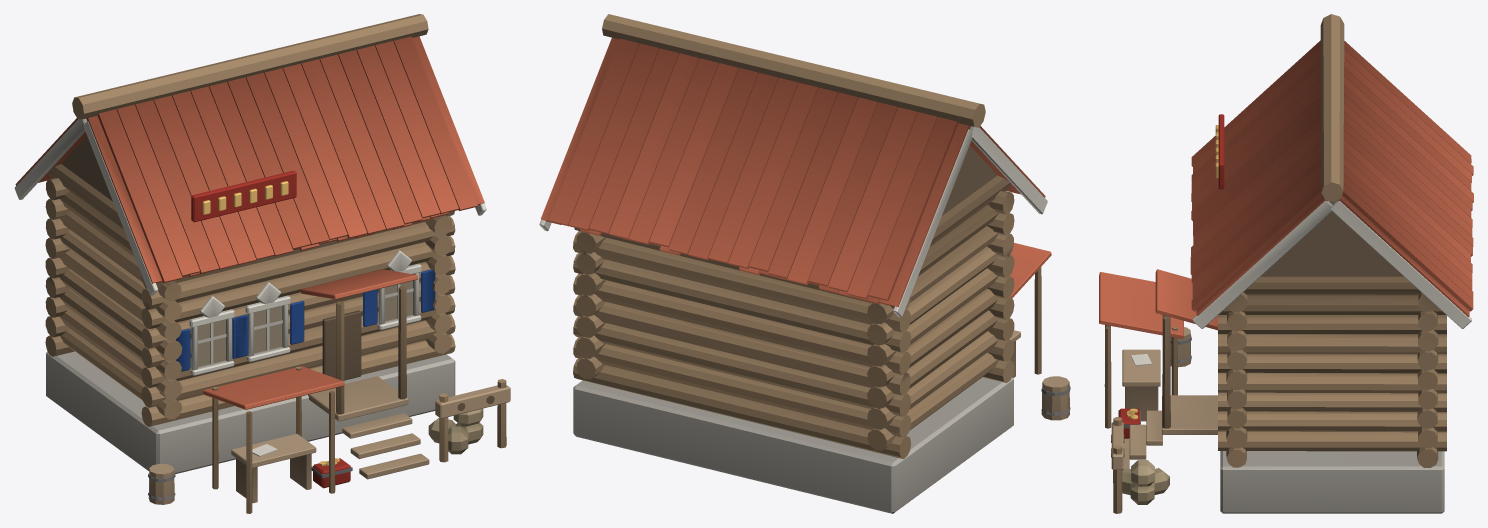
Rendered from bld_prikaz.glb.
3 views of the same model, side by side, from view 1: azimuth 30°, elevation 25°; view 2: azimuth 150°, elevation 25°; view 3: azimuth 270°, elevation 25° (orthographic). The views are drawn at different scales.
Parts seen in each view (by area): view 1: prikaz; view 2: prikaz; view 3: prikaz.
Part boxes in pixels (x1,y1,x2,y2): prikaz: [14, 14, 510, 513]; prikaz: [539, 14, 1070, 513]; prikaz: [1099, 14, 1473, 513].
Bounding box in the file's own units: 1.69 × 1.59 × 1.57.
